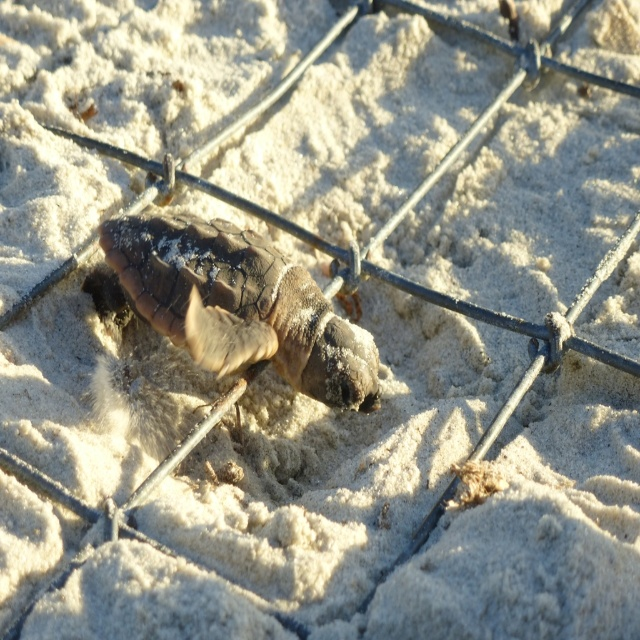Sea turtle: (100, 203, 386, 419)
